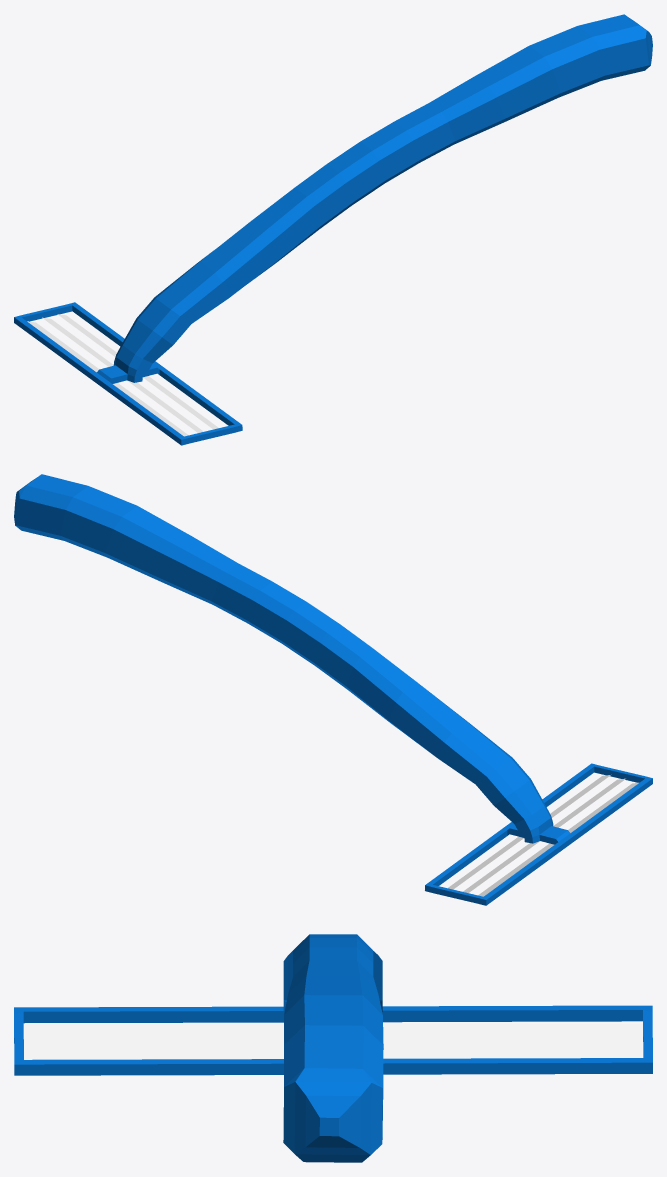
Rendered from razor.fbx.
3 views of the same model, one above another, from view 1: azimuth 30°, elevation 25°; view 2: azimuth 150°, elevation 25°; view 3: azimuth 270°, elevation 25° (orthographic). The views are drawn at different scales.
Visible parts, largest first — view 1: Cube; view 2: Cube; view 3: Cube.
Part boxes in pixels (left/top/right/bottom): Cube: left=14, top=14, right=652, bottom=445; Cube: left=14, top=474, right=652, bottom=905; Cube: left=14, top=934, right=652, bottom=1162.
Size of the model in its own units: 177 by 72.28 by 92.56.
